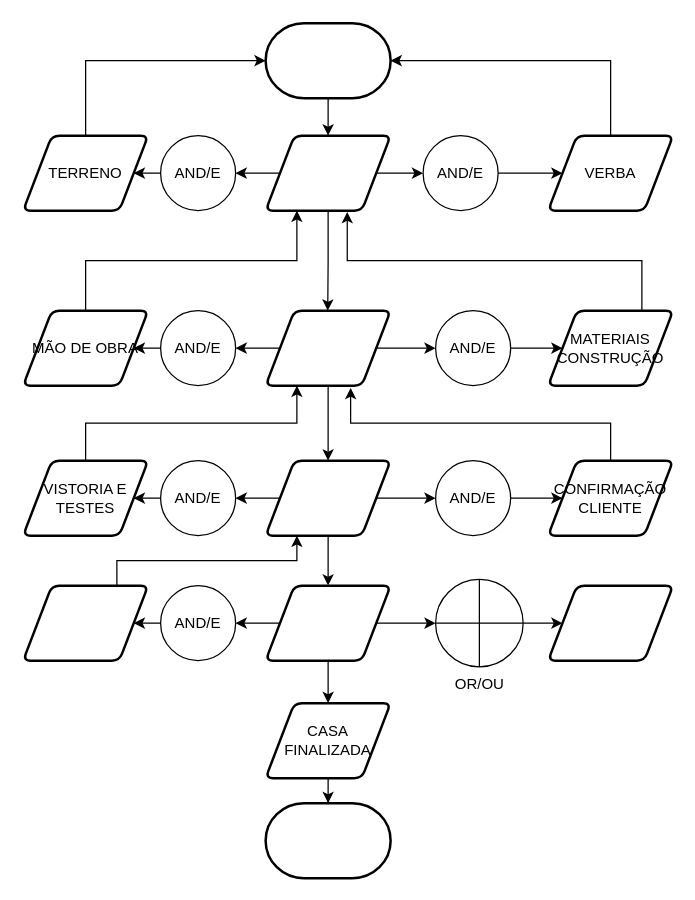
This 695x900 diagram has some shape labels left out. The centre of each missing label's shape, as x and y in pixels:
"ENTREGA DO PROJETO" belongs at point 327,622.
"FIM" belongs at point 327,840.
"FINALIZAÇÃO DO PROJETO" belongs at point 327,497.
"INICIALIZAÇÃO DO PROJETO" belongs at point 327,347.
"INICIO" belongs at point 327,60.
"OCUPAÇÃO DA CASA" belongs at point 610,622.
"PAGAMENTO" belongs at point 85,622.
"PROJETO APROVADO" belongs at point 327,172.
